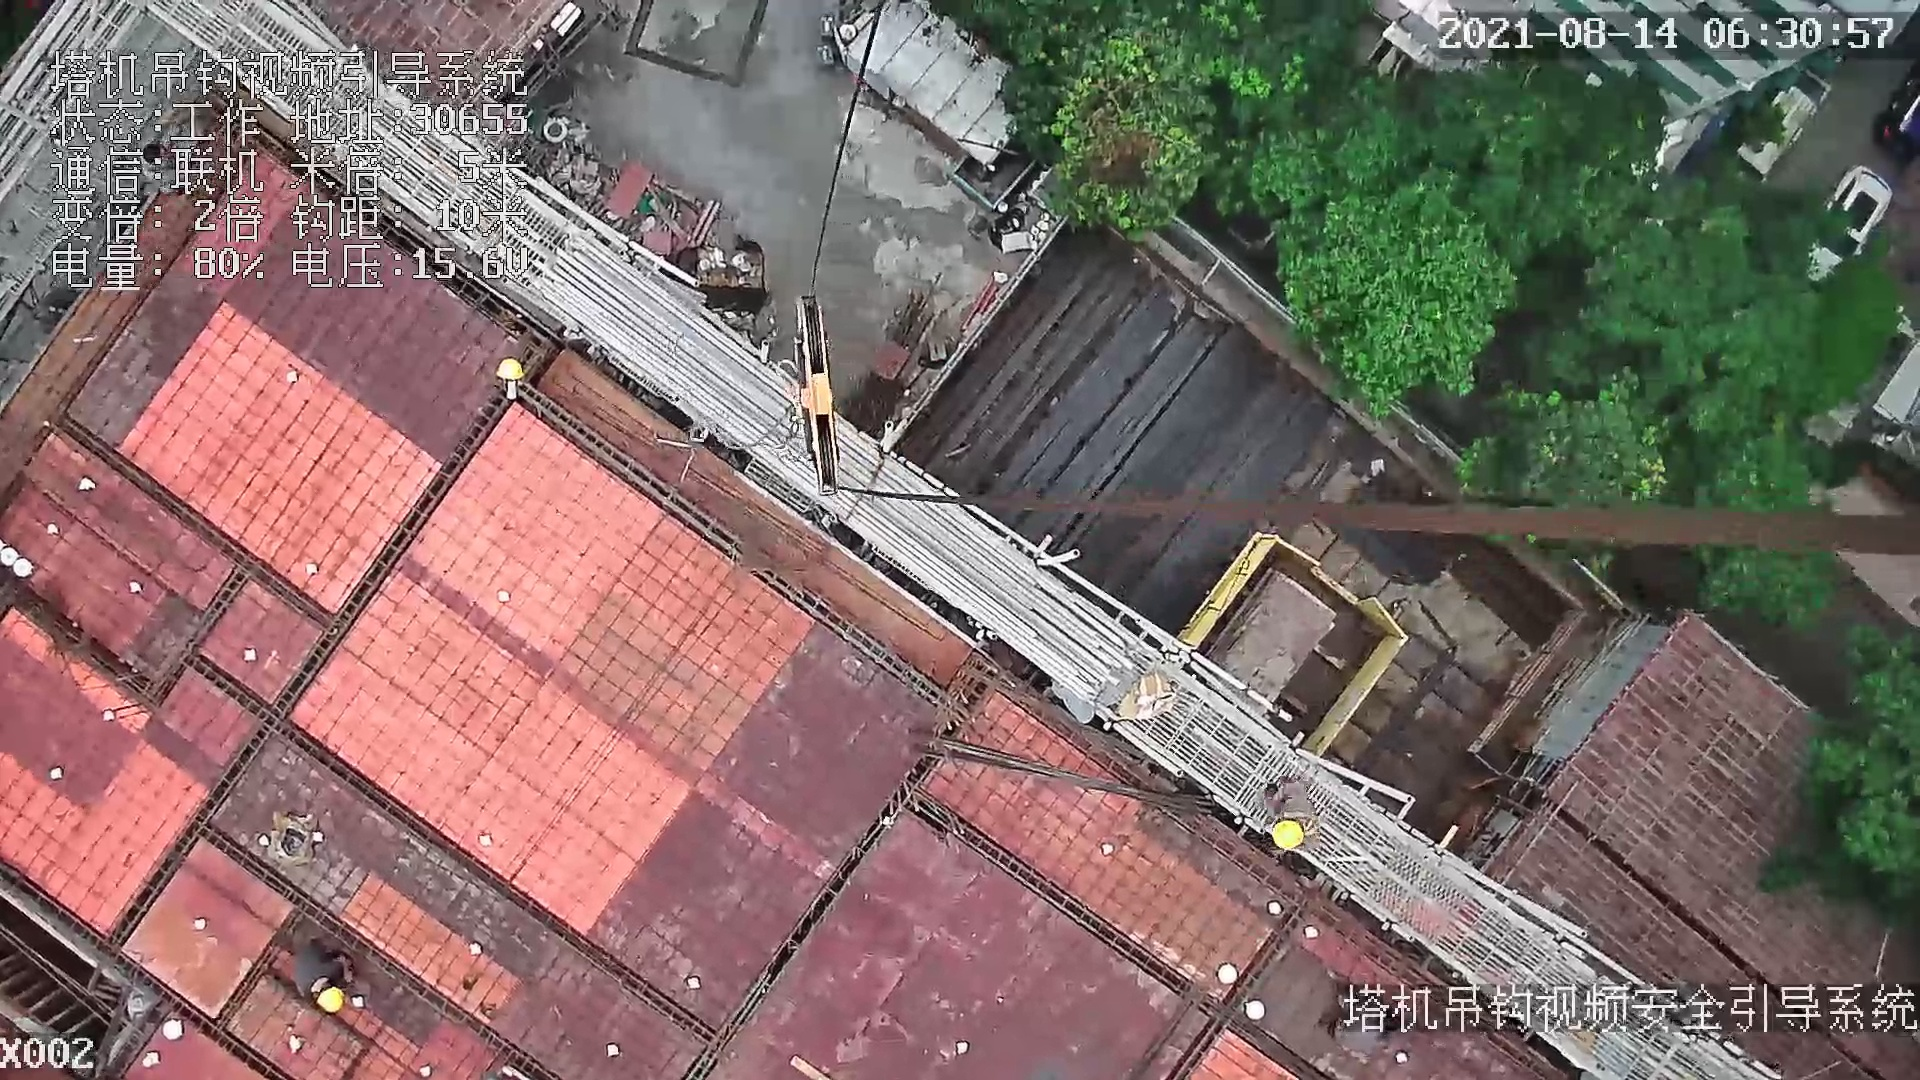helmet: (1270, 819, 1309, 850), (313, 988, 347, 1013), (495, 356, 524, 382)
hook: (785, 294, 844, 494)
person: (288, 937, 360, 1019), (1262, 772, 1320, 859)
rebar: (919, 228, 1317, 608)
